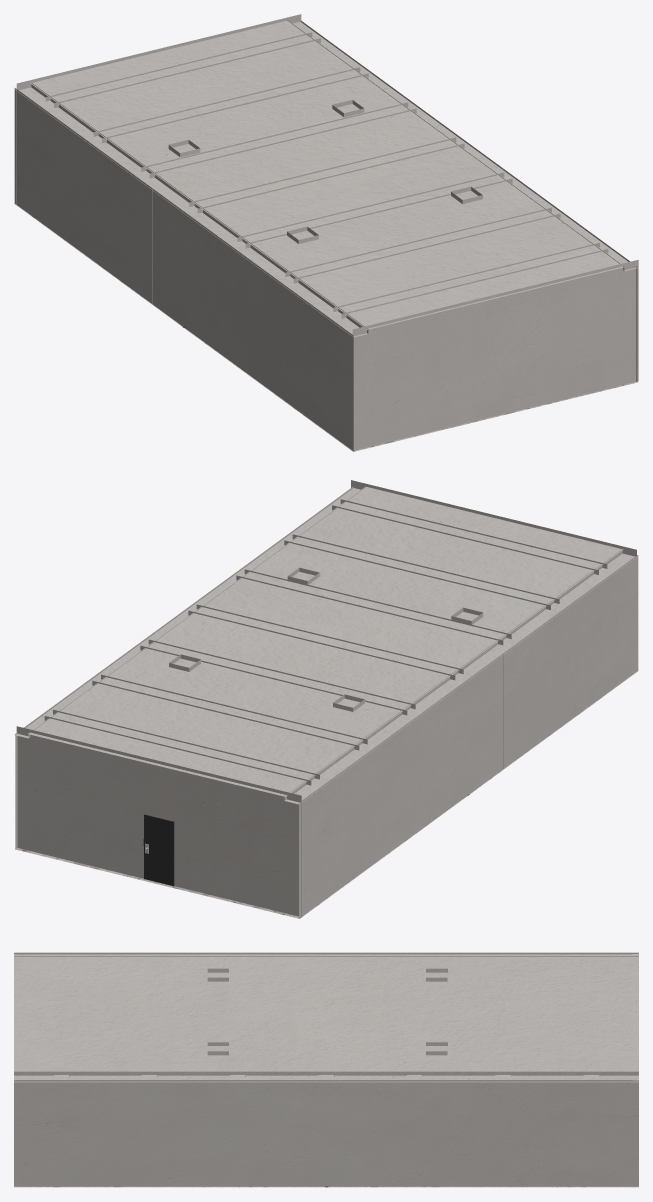
Rendered from Server Room.fbx.
3 renders of one model, top to bottom at view 1: azimuth 30°, elevation 25°; view 2: azimuth 150°, elevation 25°; view 3: azimuth 270°, elevation 25°, orthographic. The views are drawn at different scales.
Parts seen in each view (by area): view 1: InteriorCeiling.Shape, InteriorWall02.Shape, InteriorWall04.Shape, InteriorWall01.Shape, InteriorWall03.Shape, InteriorFloor.Shape; view 2: InteriorCeiling.Shape, InteriorWall02.Shape, InteriorWall01.Shape, InteriorDoor.Shape, InteriorFloor.Shape, InteriorWall04.Shape, InteriorWall03.Shape; view 3: InteriorCeiling.Shape, InteriorWall03.Shape, InteriorWall02.Shape, InteriorFloor.Shape, InteriorPillars01.Shape, InteriorPillars02.Shape.
Part boxes in pixels (left/top/right/bottom): InteriorCeiling.Shape: left=15, top=20, right=638, bottom=337; InteriorWall02.Shape: left=14, top=88, right=353, bottom=451; InteriorWall04.Shape: left=352, top=259, right=638, bottom=450; InteriorWall01.Shape: left=16, top=14, right=301, bottom=204; InteriorWall03.Shape: left=300, top=20, right=637, bottom=381; InteriorFloor.Shape: left=14, top=203, right=637, bottom=451; InteriorCeiling.Shape: left=14, top=486, right=636, bottom=804; InteriorWall02.Shape: left=299, top=555, right=638, bottom=918; InteriorWall01.Shape: left=16, top=726, right=301, bottom=916; InteriorDoor.Shape: left=145, top=816, right=172, bottom=885; InteriorFloor.Shape: left=15, top=670, right=638, bottom=918; InteriorWall04.Shape: left=351, top=480, right=636, bottom=556; InteriorWall03.Shape: left=15, top=486, right=353, bottom=848; InteriorCeiling.Shape: left=14, top=954, right=638, bottom=1082; InteriorWall03.Shape: left=14, top=1080, right=638, bottom=1186; InteriorWall02.Shape: left=14, top=952, right=638, bottom=954; InteriorFloor.Shape: left=14, top=1186, right=638, bottom=1187; InteriorPillars01.Shape: left=207, top=968, right=447, bottom=981; InteriorPillars02.Shape: left=207, top=1042, right=447, bottom=1055.
Bounding box in the file's own units: 988 × 404 × 2024.
33 materials, 16 textured.
